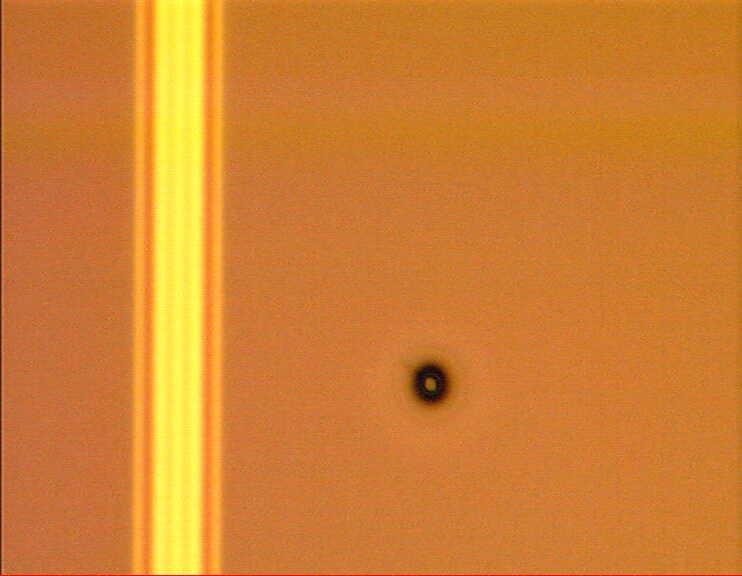PIQ PARTICLE: (398, 348, 466, 416)
